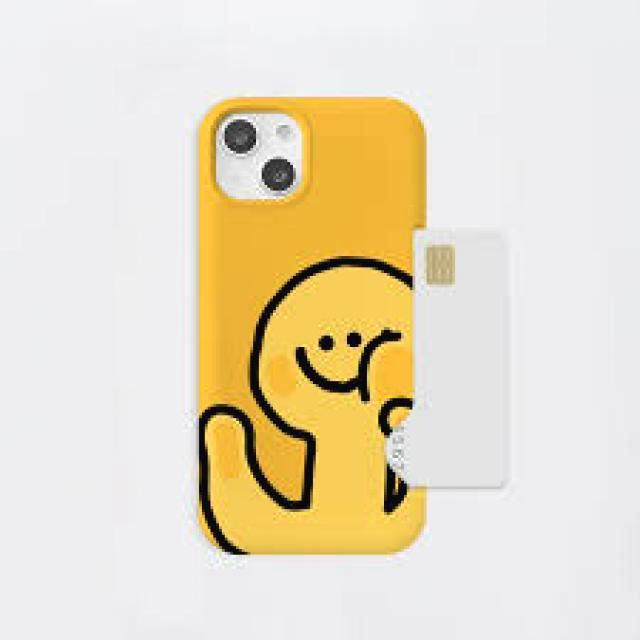phone: (192, 93, 434, 554)
